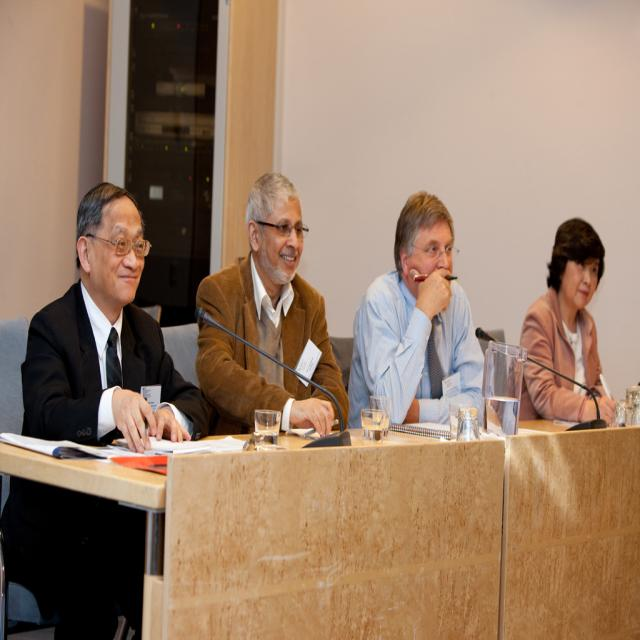desk: (0, 426, 504, 639)
person: (21, 182, 217, 458), (194, 170, 350, 438), (348, 190, 486, 430), (519, 218, 619, 428)
